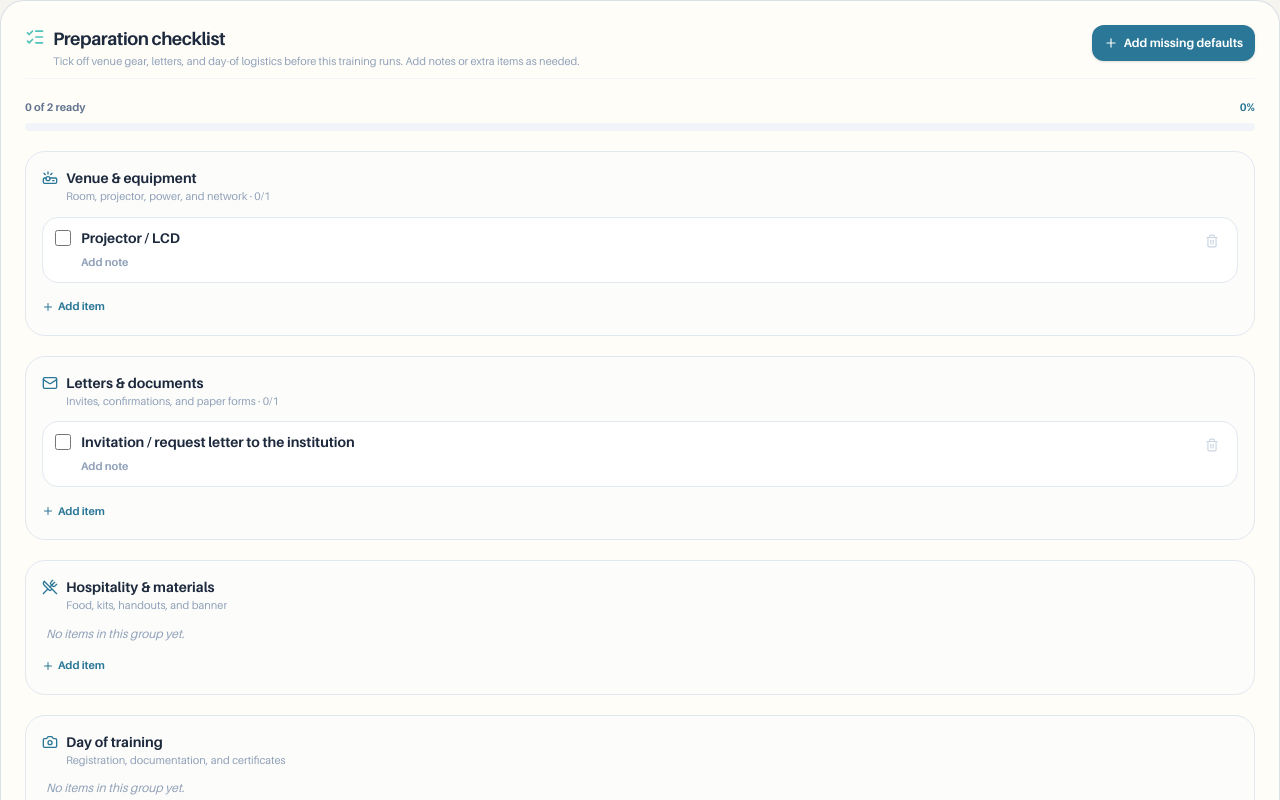
TrainingPrepChecklist › shows venue gear and letters, and saves a check
Expected: the checkbox labelled "Invitation / request letter to the institution" is shown, [55,434,71,450]
Expected: the text "0 of 2 ready" is shown, [25,98,86,115]
What coordinates should you click on to do the following:
click the checkbox labelled "Projector / LCD"
I would click on:
 (63, 238)
Its box is [55,230,71,246].
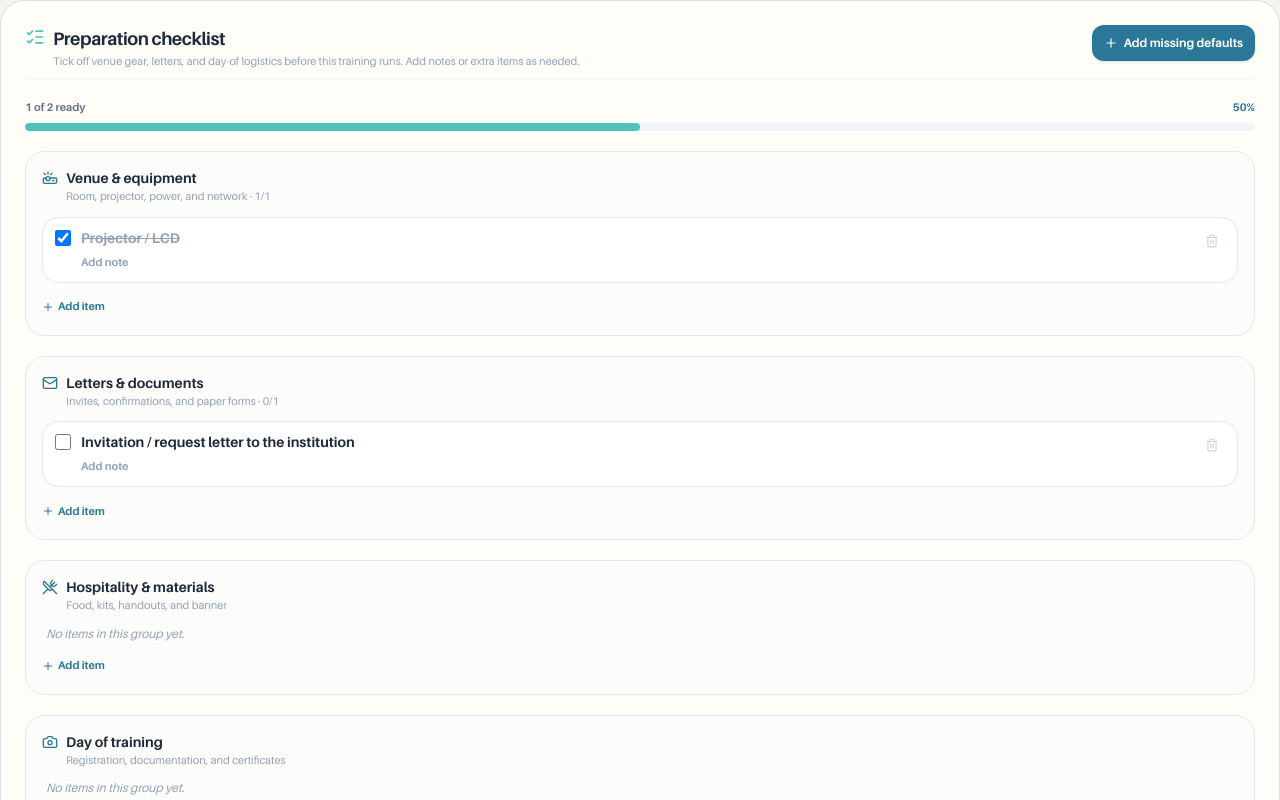
Now the text "1 of 2 ready" is shown, box [25,98,86,115]
